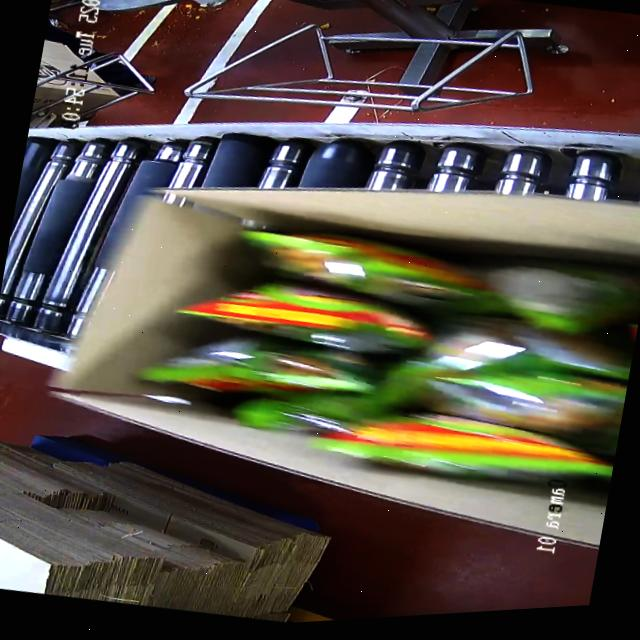YOGURT_HERB: (162, 182, 640, 517)
